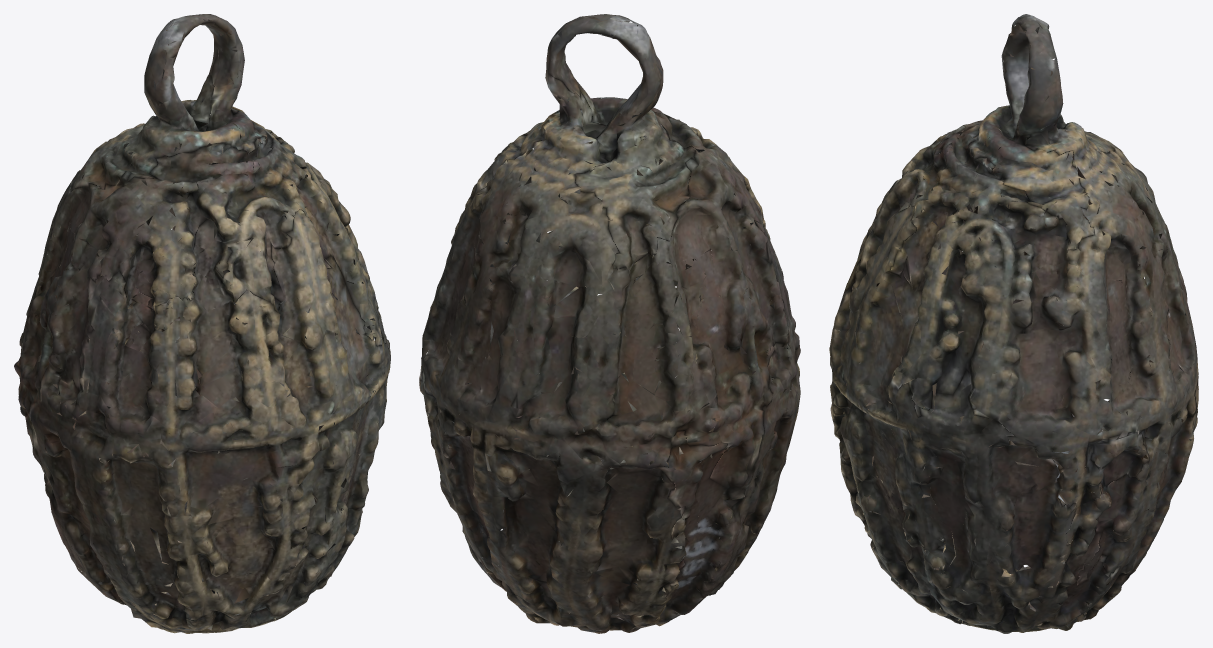
File: pearl-earring-museum.glb
The picture shows the model from 3 angles, left to right: view 1: azimuth 30°, elevation 25°; view 2: azimuth 150°, elevation 25°; view 3: azimuth 270°, elevation 25°; orthographic projection. The views are drawn at different scales.
Visible parts, largest first — view 1: Optimized_Joined_material_0; view 2: Optimized_Joined_material_0; view 3: Optimized_Joined_material_0.
Boxes of the visible parts, x1=… form: Optimized_Joined_material_0: x1=14, y1=14, x2=390, y2=633; Optimized_Joined_material_0: x1=419, y1=14, x2=800, y2=633; Optimized_Joined_material_0: x1=829, y1=14, x2=1198, y2=633.
Size of the model in its own units: 0.0197 by 0.0345 by 0.0197.
Materials: 1 (1 with a texture image).
